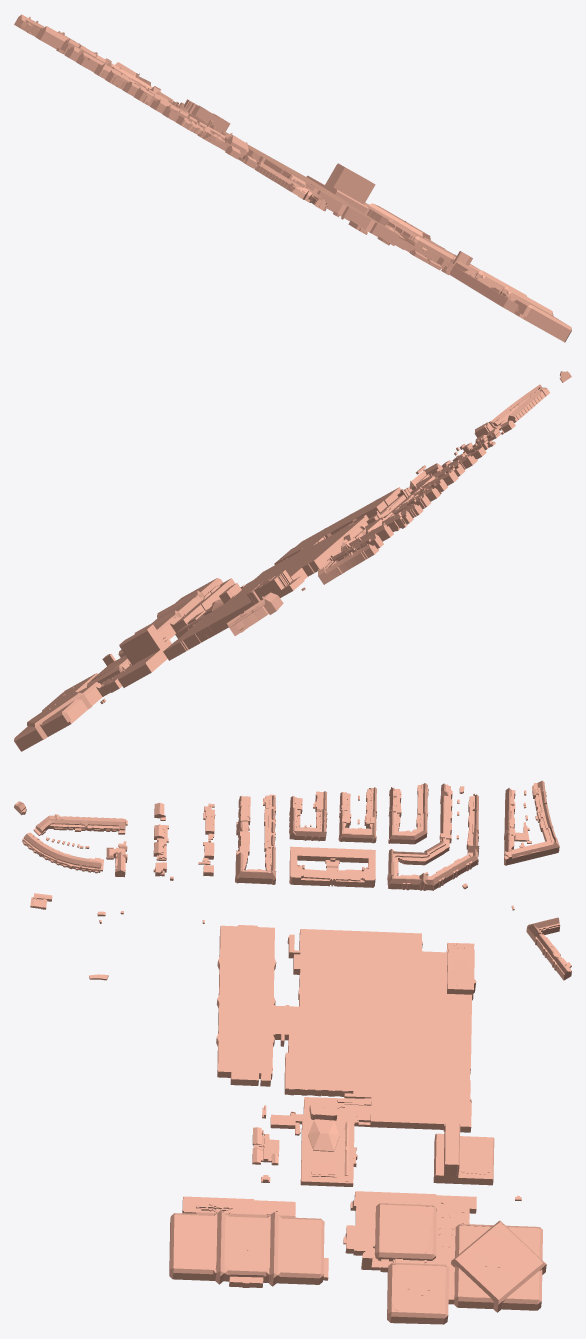
3 views of the same model, one above another, from view 1: azimuth 30°, elevation 25°; view 2: azimuth 150°, elevation 25°; view 3: azimuth 270°, elevation 25° (orthographic). The views are drawn at different scales.
Size of the model in its own units: 1.83e+07 by 1.4e+07 by 2.06e+07.
